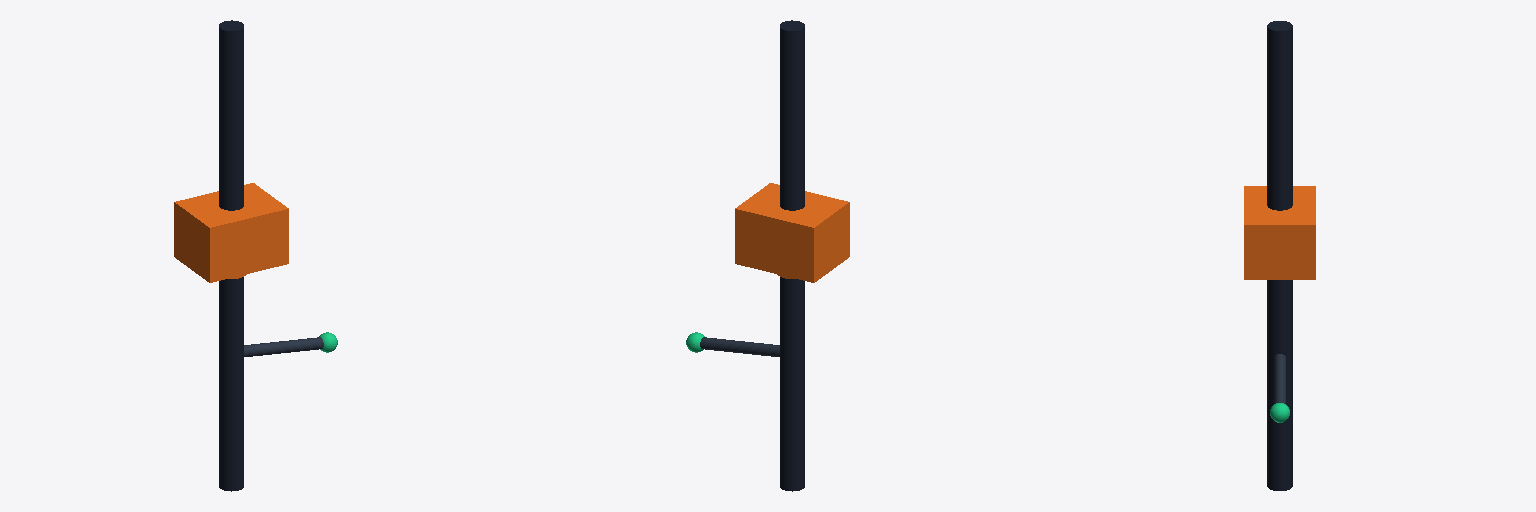
URDF robot description (capstone4_qdd_hopper):
<?xml version="1.0" encoding="utf-8"?>
<!--
  Capstone IV: 3-DOF Quasi-Direct-Drive (QDD) Legged Hopping Robot
  - Coaxial 8:1 planetary QDD actuators placed at the hip/trunk to keep distal
    shank mass ultra-low (m_shank = 0.165 kg < 0.180 kg requirement)
  - Vertical boom prismatic guide + 3-DOF actuated leg (Hip Ab/Ad, Hip Flex/Ext, Knee Flex/Ext)
-->
<robot name="capstone4_qdd_hopper">

  <material name="boom_dark">
    <color rgba="0.15 0.18 0.24 1.0"/>
  </material>
  <material name="qdd_housing_orange">
    <color rgba="0.95 0.48 0.16 1.0"/>
  </material>
  <material name="carbon_limb">
    <color rgba="0.22 0.26 0.32 1.0"/>
  </material>
  <material name="rubber_foot">
    <color rgba="0.16 0.82 0.56 1.0"/>
  </material>

  <!-- Fixed Ground & Vertical Boom Column -->
  <link name="base_link">
    <inertial>
      <origin xyz="0.0 0.0 0.50" rpy="0.0 0.0 0.0"/>
      <mass value="8.000"/>
      <inertia ixx="0.650000" ixy="0.0" ixz="0.0" iyy="0.650000" iyz="0.0" izz="0.040000"/>
    </inertial>
    <visual>
      <origin xyz="0.0 0.0 0.50" rpy="0.0 0.0 0.0"/>
      <geometry>
        <cylinder radius="0.025" length="1.00"/>
      </geometry>
      <material name="boom_dark"/>
    </visual>
  </link>

  <!-- Unactuated Prismatic Vertical Boom Guide (+Z translation) -->
  <joint name="boom_z_slide" type="prismatic">
    <parent link="base_link"/>
    <child link="trunk_link"/>
    <origin xyz="0.0 0.0 0.55" rpy="0.0 0.0 0.0"/>
    <axis xyz="0.0 0.0 1.0"/>
    <limit lower="-0.48" upper="0.80" effort="0.0" velocity="12.0"/>
    <dynamics damping="0.05" friction="0.02"/>
  </joint>

  <!-- Robot Trunk / Pelvis housing the 3x Coaxial 8:1 QDD Stators -->
  <link name="trunk_link">
    <inertial>
      <origin xyz="0.0 0.0 0.0" rpy="0.0 0.0 0.0"/>
      <mass value="2.350"/>
      <inertia ixx="0.011200" ixy="0.0" ixz="0.0" iyy="0.014500" iyz="0.0" izz="0.016800"/>
    </inertial>
    <visual>
      <origin xyz="0.0 0.0 0.0" rpy="0.0 0.0 0.0"/>
      <geometry>
        <box size="0.18 0.14 0.12"/>
      </geometry>
      <material name="qdd_housing_orange"/>
    </visual>
    <collision>
      <origin xyz="0.0 0.0 0.0" rpy="0.0 0.0 0.0"/>
      <geometry>
        <box size="0.18 0.14 0.12"/>
      </geometry>
    </collision>
  </link>

  <!-- Joint 1: Hip Abduction / Adduction (q_abad about +X axis) -->
  <joint name="q1_hip_abad" type="revolute">
    <parent link="trunk_link"/>
    <child link="hip_abad_link"/>
    <origin xyz="0.0 0.0 -0.04" rpy="0.0 0.0 0.0"/>
    <axis xyz="1.0 0.0 0.0"/>
    <limit lower="-0.78539816" upper="0.78539816" effort="24.0" velocity="32.0"/>
    <dynamics damping="0.04" friction="0.03"/>
  </joint>

  <link name="hip_abad_link">
    <inertial>
      <origin xyz="0.0 0.0 0.0" rpy="0.0 0.0 0.0"/>
      <mass value="0.540"/>
      <inertia ixx="0.000680" ixy="0.0" ixz="0.0" iyy="0.000720" iyz="0.0" izz="0.000520"/>
    </inertial>
    <visual>
      <origin xyz="0.0 0.0 0.0" rpy="1.57079632679 0.0 0.0"/>
      <geometry>
        <cylinder radius="0.048" length="0.055"/>
      </geometry>
      <material name="qdd_housing_orange"/>
    </visual>
  </link>

  <!-- Joint 2: Hip Flexion / Extension (q_hip about +Y axis) -->
  <joint name="q2_hip_pitch" type="revolute">
    <parent link="hip_abad_link"/>
    <child link="thigh_link"/>
    <origin xyz="0.0 0.0 0.0" rpy="0.0 0.0 0.0"/>
    <axis xyz="0.0 1.0 0.0"/>
    <limit lower="-2.0943951" upper="2.0943951" effort="24.0" velocity="32.0"/>
    <dynamics damping="0.04" friction="0.03"/>
  </joint>

  <!-- Thigh Link (Length L_thigh = 0.22 m along -Z) -->
  <link name="thigh_link">
    <inertial>
      <origin xyz="0.0 0.0 -0.09" rpy="0.0 0.0 0.0"/>
      <mass value="0.620"/>
      <inertia ixx="0.002850" ixy="0.0" ixz="0.0" iyy="0.002950" iyz="0.0" izz="0.000420"/>
    </inertial>
    <visual>
      <origin xyz="0.0 0.0 -0.11" rpy="0.0 0.0 0.0"/>
      <geometry>
        <cylinder radius="0.020" length="0.22"/>
      </geometry>
      <material name="carbon_limb"/>
    </visual>
    <collision>
      <origin xyz="0.0 0.0 -0.11" rpy="0.0 0.0 0.0"/>
      <geometry>
        <cylinder radius="0.020" length="0.22"/>
      </geometry>
    </collision>
  </link>

  <!-- Joint 3: Knee Flexion / Extension (q_knee about +Y axis, belt-driven from coaxial hip QDD) -->
  <joint name="q3_knee_pitch" type="revolute">
    <parent link="thigh_link"/>
    <child link="shank_link"/>
    <origin xyz="0.0 0.0 -0.22" rpy="0.0 0.0 0.0"/>
    <axis xyz="0.0 1.0 0.0"/>
    <limit lower="-2.61799388" upper="-0.26179939" effort="28.0" velocity="30.0"/>
    <dynamics damping="0.03" friction="0.025"/>
  </joint>

  <!-- Ultra-Low-Inertia Carbon Shank Link (m_shank = 0.150 kg < 0.180 kg Capstone IV spec, L_shank = 0.22 m) -->
  <link name="shank_link">
    <inertial>
      <origin xyz="0.0 0.0 -0.10" rpy="0.0 0.0 0.0"/>
      <mass value="0.150"/>
      <inertia ixx="0.000640" ixy="0.0" ixz="0.0" iyy="0.000640" iyz="0.0" izz="0.000035"/>
    </inertial>
    <visual>
      <origin xyz="0.0 0.0 -0.11" rpy="0.0 0.0 0.0"/>
      <geometry>
        <cylinder radius="0.012" length="0.22"/>
      </geometry>
      <material name="carbon_limb"/>
    </visual>
    <collision>
      <origin xyz="0.0 0.0 -0.11" rpy="0.0 0.0 0.0"/>
      <geometry>
        <cylinder radius="0.012" length="0.22"/>
      </geometry>
    </collision>
  </link>

  <!-- Elastomeric Point Foot Contact Sphere -->
  <joint name="foot_contact_fixed" type="fixed">
    <parent link="shank_link"/>
    <child link="foot_link"/>
    <origin xyz="0.0 0.0 -0.22" rpy="0.0 0.0 0.0"/>
  </joint>

  <link name="foot_link">
    <inertial>
      <origin xyz="0.0 0.0 0.0" rpy="0.0 0.0 0.0"/>
      <mass value="0.025"/>
      <inertia ixx="0.000004" ixy="0.0" ixz="0.0" iyy="0.000004" iyz="0.0" izz="0.000004"/>
    </inertial>
    <visual>
      <origin xyz="0.0 0.0 0.0" rpy="0.0 0.0 0.0"/>
      <geometry>
        <sphere radius="0.020"/>
      </geometry>
      <material name="rubber_foot"/>
    </visual>
    <collision>
      <origin xyz="0.0 0.0 0.0" rpy="0.0 0.0 0.0"/>
      <geometry>
        <sphere radius="0.020"/>
      </geometry>
    </collision>
  </link>

</robot>

--- Facts derived from the render (not from the file) ---
3 views of the same robot in one strip: view 1: azimuth 30°, elevation 25°; view 2: azimuth 150°, elevation 25°; view 3: azimuth 270°, elevation 25° (orthographic).
Robot: capstone4_qdd_hopper — 6 links, 5 joints (3 revolute, 1 prismatic, 1 fixed); root link base_link; default pose: joints at zero except 1 at the middle of their limits (q3_knee_pitch = -1.44).
Visible links, largest first — view 1: base_link, trunk_link, shank_link; view 2: base_link, trunk_link, shank_link; view 3: base_link, trunk_link, shank_link.
Link boxes in pixels (x1,y1,x2,y2): base_link: (219,20,243,491); trunk_link: (174,183,288,282); shank_link: (244,337,323,356); base_link: (780,20,804,491); trunk_link: (735,183,849,282); shank_link: (700,337,779,356); base_link: (1267,21,1292,490); trunk_link: (1244,186,1315,279); shank_link: (1274,354,1285,403).
Bounding box of the posed robot: 0.3281 × 0.14 × 1 m (x, y, z).
Geometry: primitives only (box / cylinder / sphere), no mesh files.
